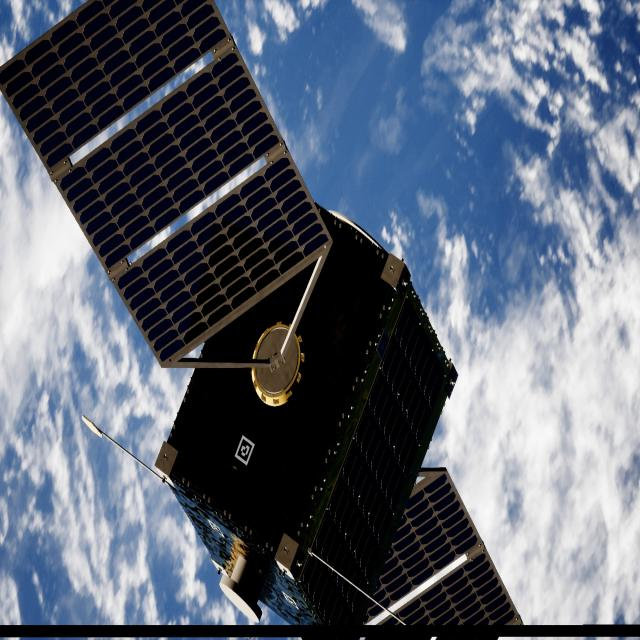medium_debris: (0, 0, 518, 640)
